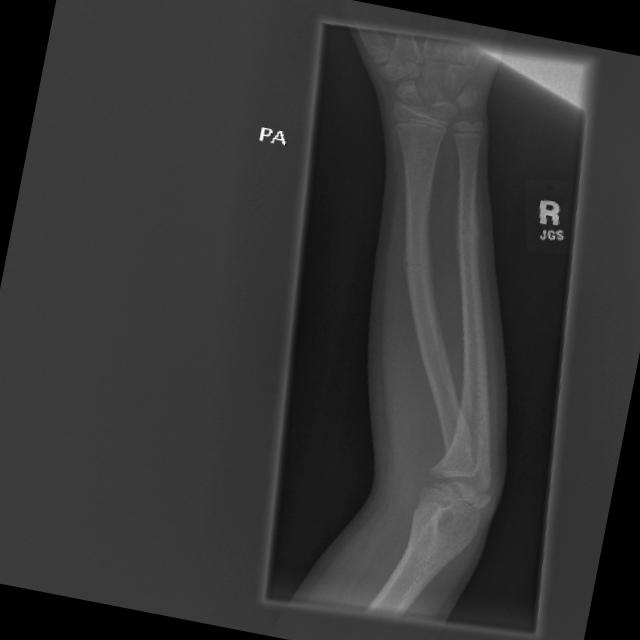forearm fracture: (385, 236, 461, 318)
